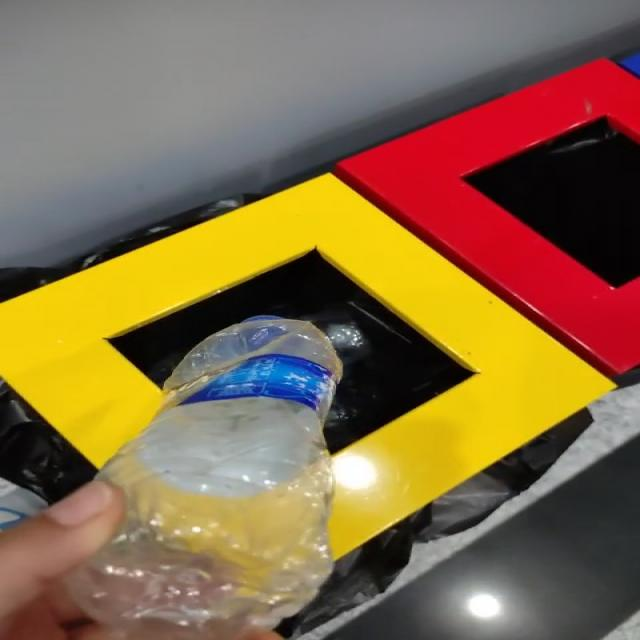plastic: (67, 316, 343, 640)
